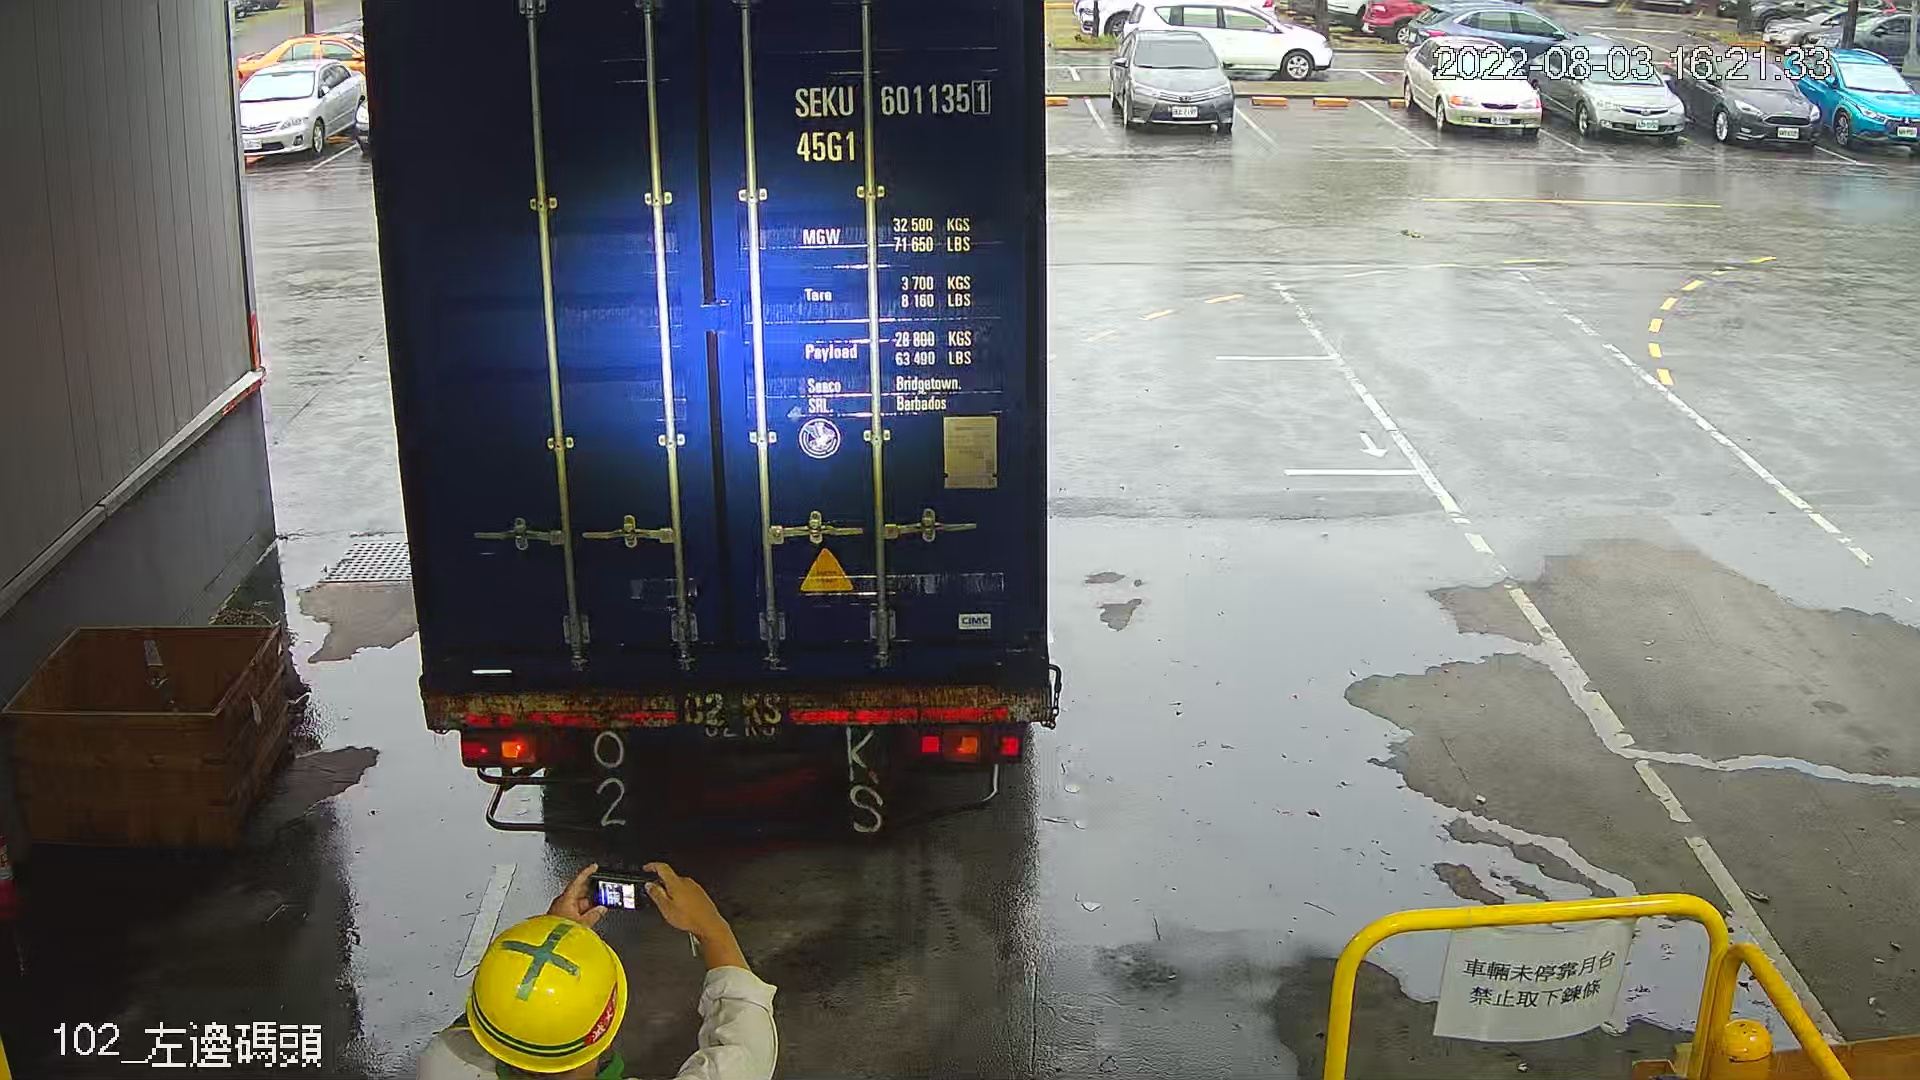container: (779, 67, 1001, 175)
